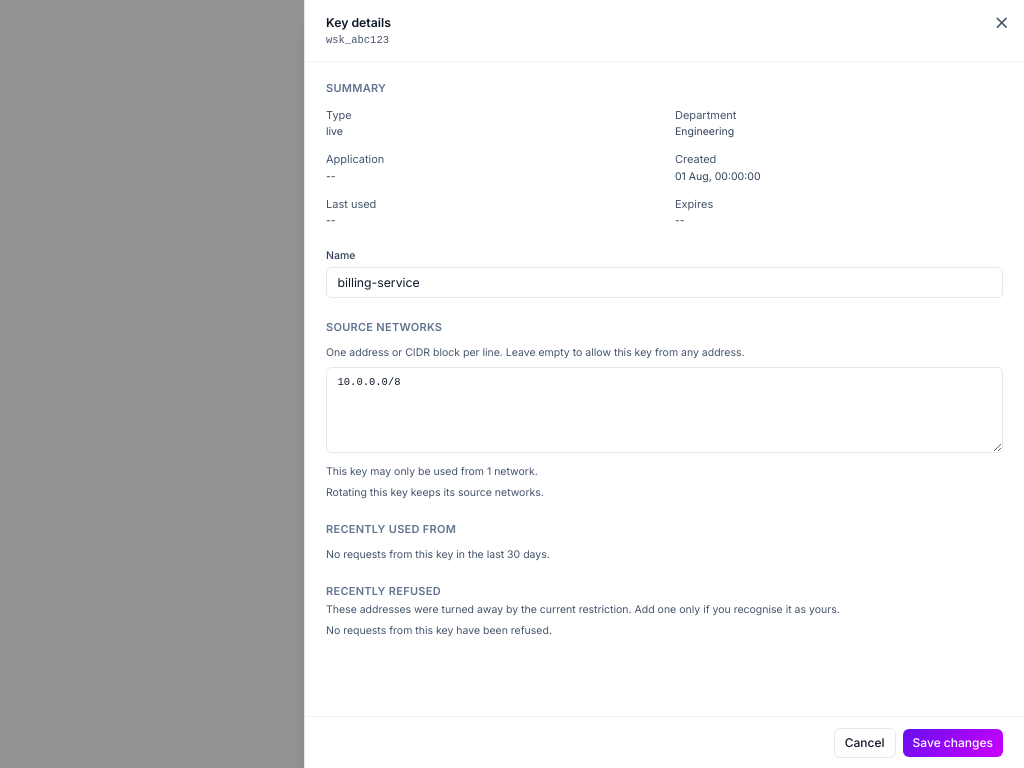
it: KeyDetailDrawer after saving › leaves the cached detail alone when the save is refused
The width and height of the screenshot is (1024, 768).
Step 1. Replace the text in the text box named "Source networks" with "192.0.2.0/24" → [664, 410], box [326,367,1003,453]
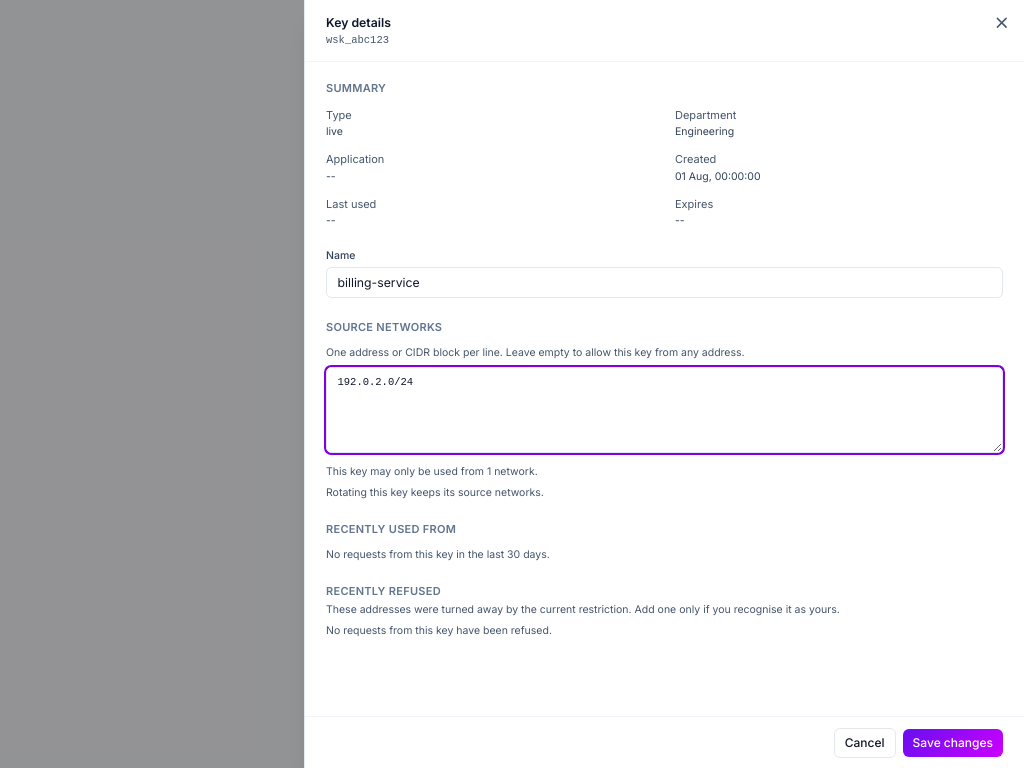
Step 2. Click the button "Save changes" → [953, 742], box [903,728,1003,756]
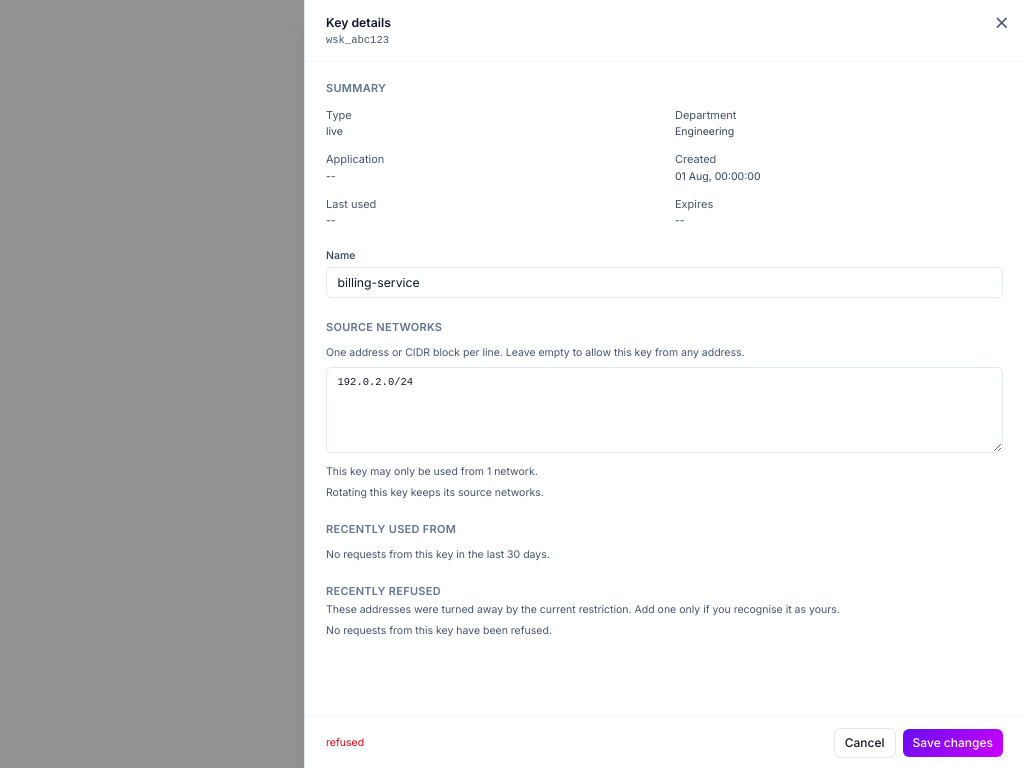
Check: the text "refused" is shown, box [326,736,364,750]
